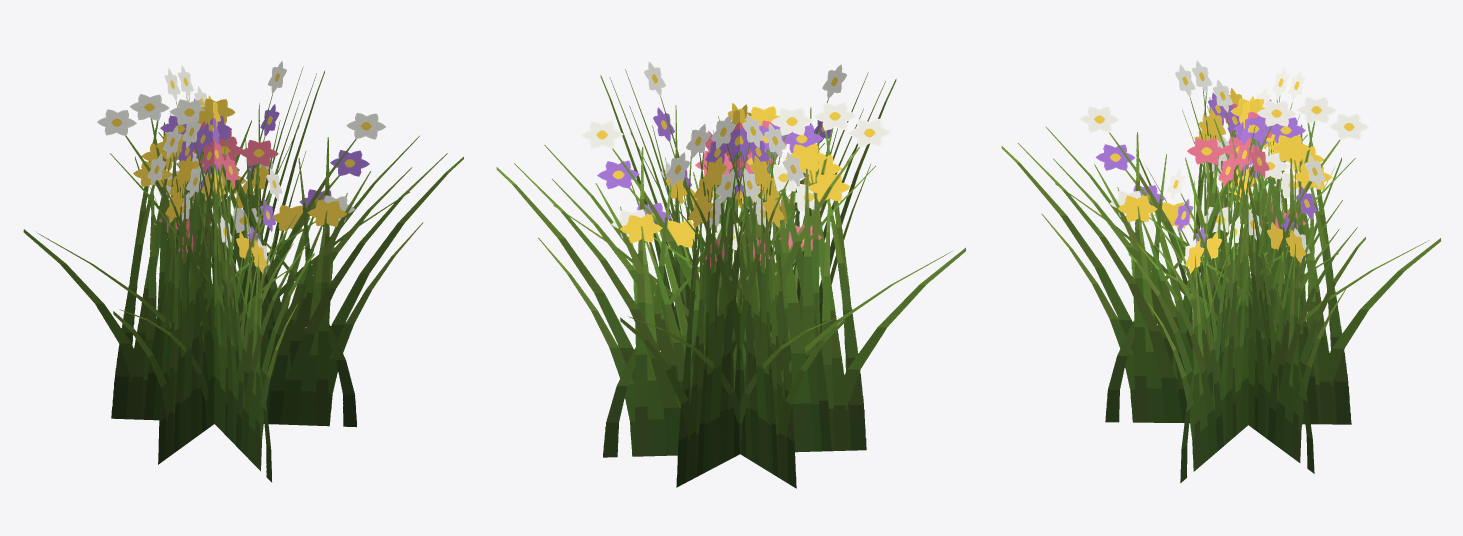
Rendered from ENV_Forest_Flower.fbx.
3 views of the same model, side by side, from view 1: azimuth 30°, elevation 25°; view 2: azimuth 150°, elevation 25°; view 3: azimuth 270°, elevation 25° (orthographic). The views are drawn at different scales.
Visible parts, largest first — view 1: ENV_Forest_Flower; view 2: ENV_Forest_Flower; view 3: ENV_Forest_Flower.
Part boxes in pixels (<box>): ENV_Forest_Flower: <box>23,61,463,482</box>; ENV_Forest_Flower: <box>496,61,965,488</box>; ENV_Forest_Flower: <box>1001,60,1440,483</box>.
Size of the model in its own units: 0.5581 by 0.5281 by 0.6151.
